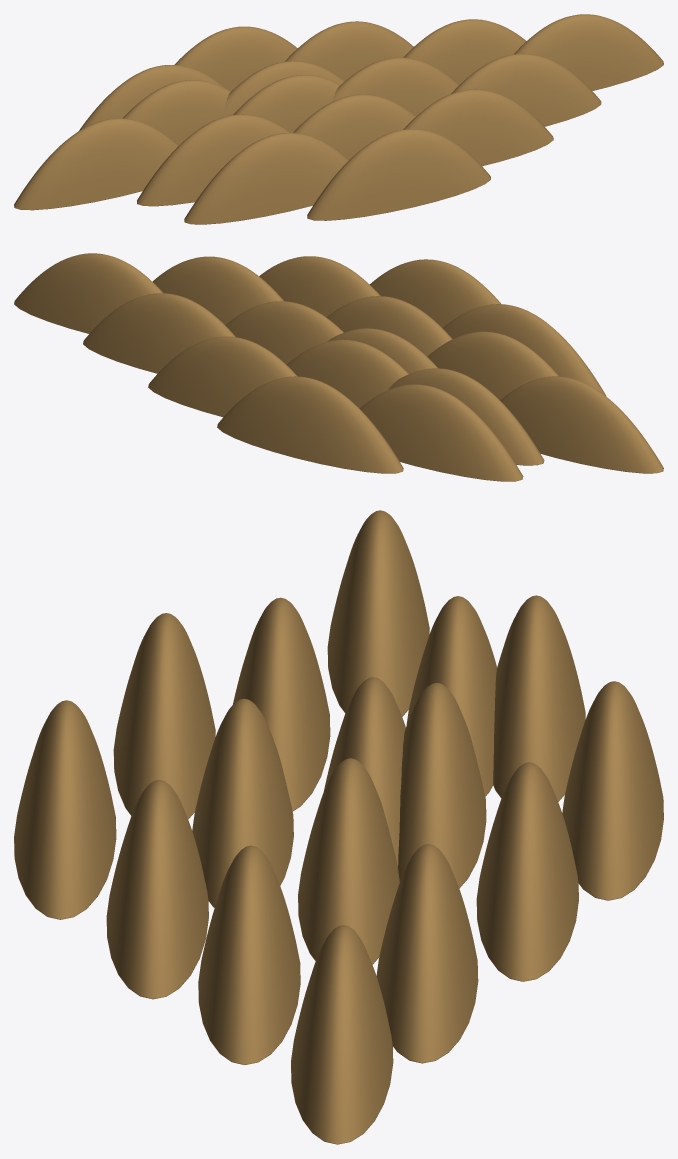
Rendered from tane 20200922 week1.glb.
The picture shows the model from 3 angles, top to bottom: view 1: azimuth 30°, elevation 25°; view 2: azimuth 150°, elevation 25°; view 3: azimuth 270°, elevation 25°; orthographic projection. The views are drawn at different scales.
Parts seen in each view (by area): view 1: obj_0.005, obj_0.014, obj_0.006, obj_0.004, obj_0.003, obj_0.013, obj_0.002, obj_0.011, obj_0, obj_0.007, obj_0.008, obj_0.001 (+4 smaller); view 2: obj_0.011, obj_0.014, obj_0.010, obj_0, obj_0.003, obj_0.008, obj_0.005, obj_0.002, obj_0.013, obj_0.009, obj_0.006, obj_0.004 (+4 smaller); view 3: obj_0.002, obj_0.005, obj_0.008, obj_0.004, obj_0.003, obj_0.011, obj_0, obj_0.014, obj_0.006, obj_0.001, obj_0.010, obj_0.007 (+4 smaller).
Part boxes in pixels (bbox=[...]): obj_0.005: bbox=[307, 129, 490, 220]; obj_0.014: bbox=[14, 118, 178, 210]; obj_0.006: bbox=[184, 133, 348, 224]; obj_0.004: bbox=[403, 89, 553, 166]; obj_0.003: bbox=[514, 14, 663, 90]; obj_0.013: bbox=[137, 114, 290, 206]; obj_0.002: bbox=[451, 53, 601, 126]; obj_0.011: bbox=[174, 26, 297, 91]; obj_0: bbox=[403, 19, 526, 84]; obj_0.007: bbox=[293, 94, 415, 159]; obj_0.008: bbox=[285, 21, 413, 80]; obj_0.001: bbox=[332, 57, 458, 116]; obj_0.011: bbox=[217, 376, 403, 473]; obj_0.014: bbox=[500, 376, 663, 473]; obj_0.010: bbox=[359, 384, 523, 481]; obj_0: bbox=[83, 293, 235, 373]; obj_0.003: bbox=[14, 253, 163, 333]; obj_0.008: bbox=[148, 336, 297, 417]; obj_0.005: bbox=[370, 259, 501, 328]; obj_0.002: bbox=[152, 256, 283, 325]; obj_0.013: bbox=[427, 331, 558, 400]; obj_0.009: bbox=[287, 339, 408, 408]; obj_0.006: bbox=[443, 304, 606, 395]; obj_0.004: bbox=[259, 256, 380, 317]; obj_0.002: bbox=[198, 845, 300, 1064]; obj_0.005: bbox=[14, 700, 116, 919]; obj_0.008: bbox=[476, 762, 578, 981]; obj_0.004: bbox=[106, 779, 208, 999]; obj_0.003: bbox=[291, 925, 393, 1144]; obj_0.011: bbox=[562, 681, 663, 900]; obj_0: bbox=[376, 844, 478, 1063]; obj_0.014: bbox=[327, 510, 429, 716]; obj_0.006: bbox=[113, 613, 215, 819]; obj_0.001: bbox=[298, 758, 399, 964]; obj_0.010: bbox=[493, 595, 585, 801]; obj_0.007: bbox=[192, 698, 293, 907].
Bounding box in the file's own units: 100 × 10 × 47.59.
